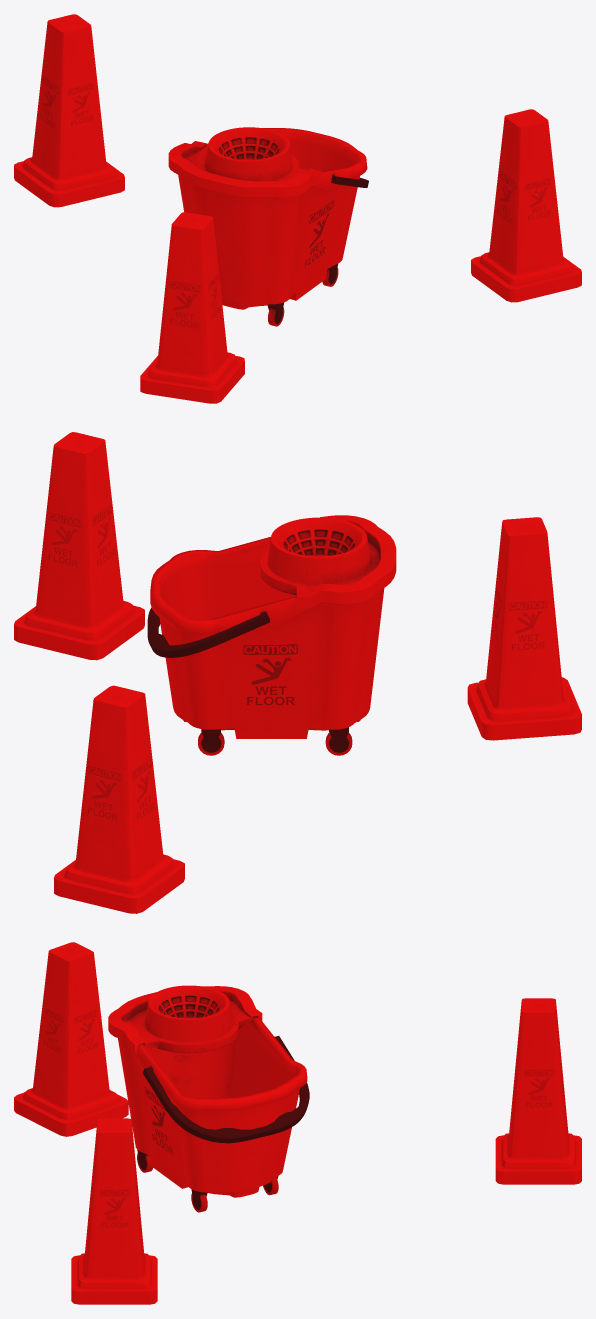
File: mop_bucket__safety_cones__props.glb
The picture shows the model from 3 angles, top to bottom: view 1: azimuth 30°, elevation 25°; view 2: azimuth 150°, elevation 25°; view 3: azimuth 270°, elevation 25°; orthographic projection. The views are drawn at different scales.
Visible parts, largest first — view 1: SM_MopBucket_LOD0, SM_WetFloorCone_3, SM_WetFloorCone_1, SM_WetFloorCone; view 2: SM_MopBucket_LOD0, SM_WetFloorCone_3, SM_WetFloorCone_1, SM_WetFloorCone; view 3: SM_MopBucket_LOD0, SM_WetFloorCone, SM_WetFloorCone_3, SM_WetFloorCone_1.
Boxes of the visible parts, <box> form: SM_MopBucket_LOD0: <box>168,127,368,326</box>; SM_WetFloorCone_3: <box>471,109,581,302</box>; SM_WetFloorCone_1: <box>14,14,124,207</box>; SM_WetFloorCone: <box>140,212,244,403</box>; SM_MopBucket_LOD0: <box>147,515,396,755</box>; SM_WetFloorCone_3: <box>14,432,144,660</box>; SM_WetFloorCone_1: <box>54,685,184,913</box>; SM_WetFloorCone: <box>467,517,581,740</box>; SM_MopBucket_LOD0: <box>108,985,309,1212</box>; SM_WetFloorCone: <box>14,942,128,1136</box>; SM_WetFloorCone_3: <box>71,1118,157,1304</box>; SM_WetFloorCone_1: <box>495,998,581,1184</box>.
Bounding box in the file's own units: 1.47 × 0.5285 × 1.64.
Materials: 2 (2 with a texture image).
